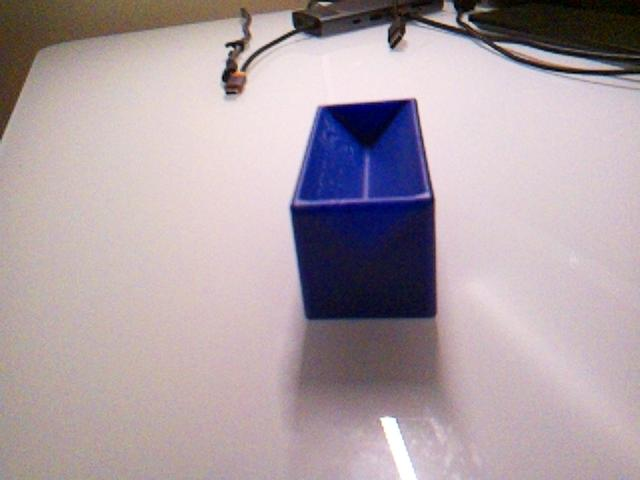blue: (289, 96, 439, 321)
